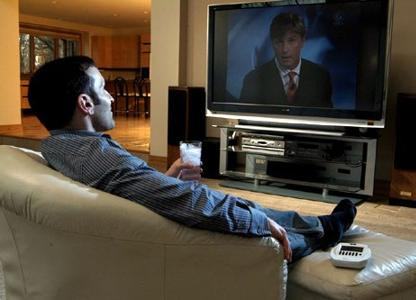person: (29, 56, 360, 266)
